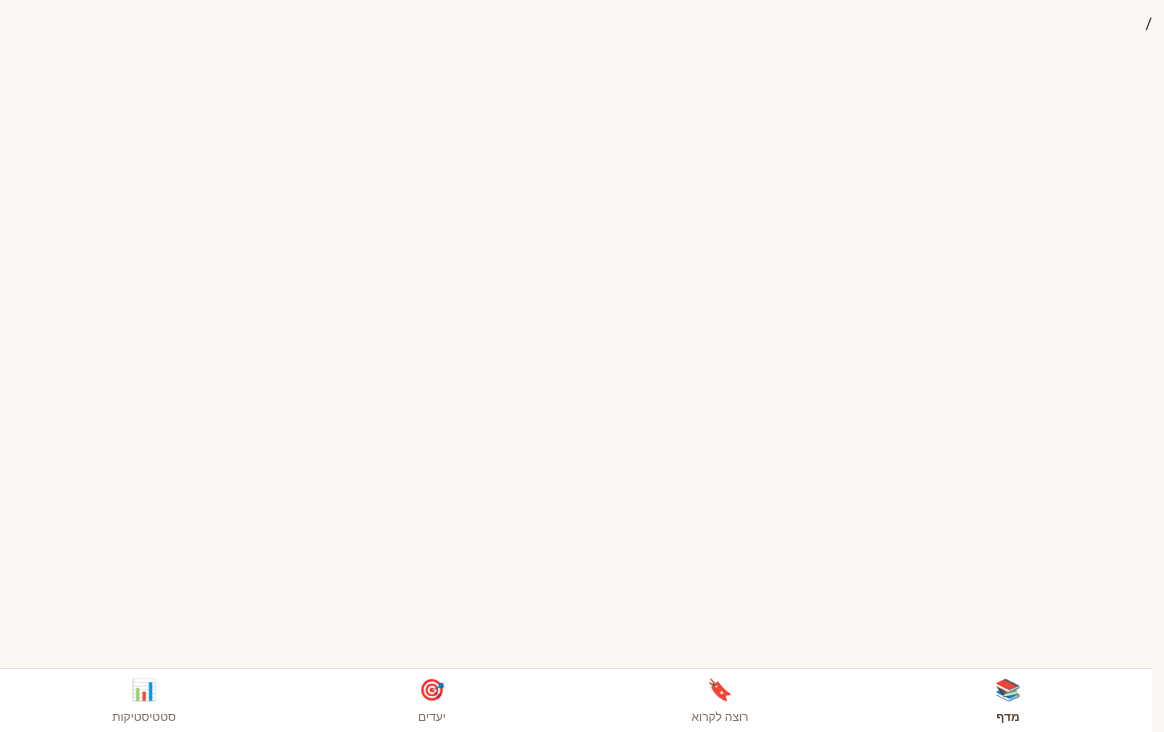
Test: BottomNav › navigates to יעדים
The width and height of the screenshot is (1164, 732).
What coordinates should you click on to do the following:
click the link "🎯 יעדים"
I would click on:
 (432, 700)
Its box is [418,675,446,726].
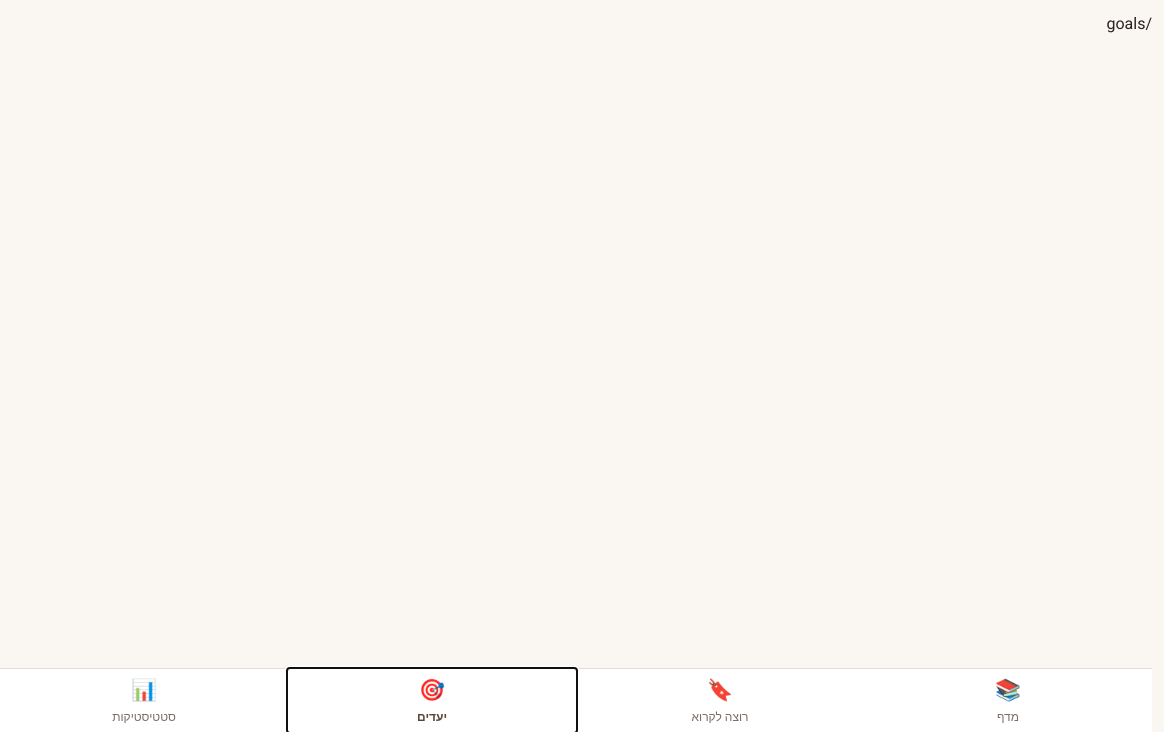
Check: the text with test id "location" reads "/goals", box [1106,12,1152,36]
